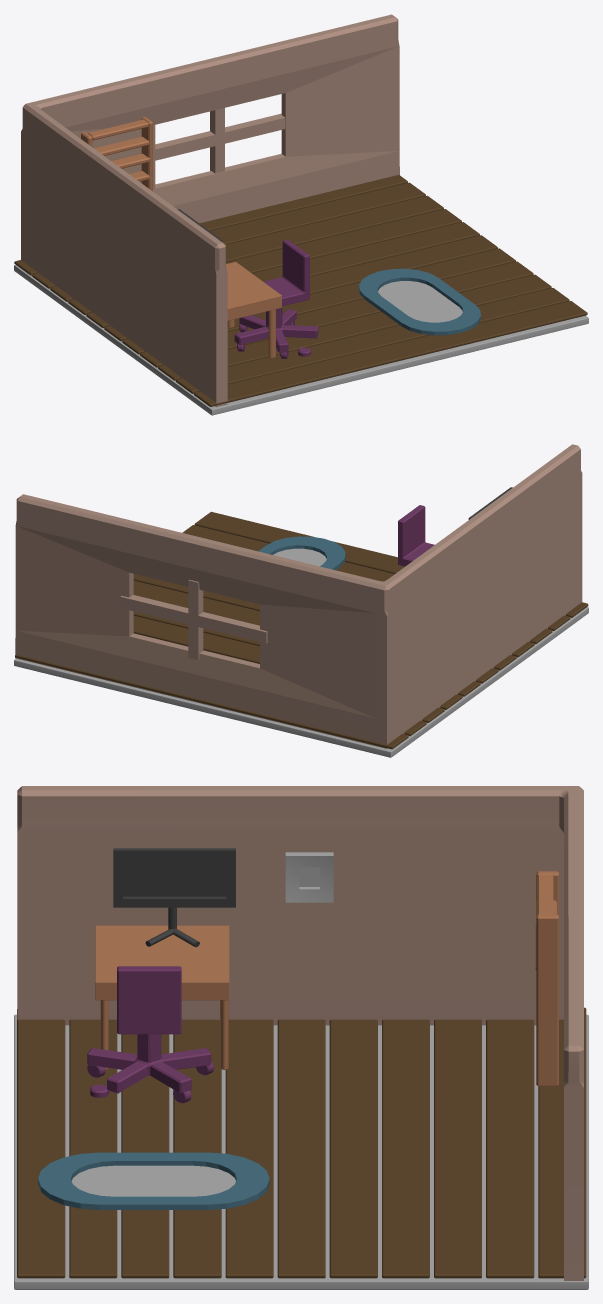
Rendered from room.fbx.
The picture shows the model from 3 angles, top to bottom: view 1: azimuth 30°, elevation 25°; view 2: azimuth 150°, elevation 25°; view 3: azimuth 270°, elevation 25°; orthographic projection. The views are drawn at different scales.
Visible parts, largest first — view 1: pCube1, pasted__pCube2, pCube14, floor, pasted__pCube3, pasted__pCube4, pasted__pCube10, Cadeira, pasted__pCube11, pasted__pCube9, pasted__pCube8, pasted__pCube7 (+6 smaller); view 2: pCube1, floor, pCube2, pasted__pCube2, pasted__pCube9, pCube14, pasted__pCube7, pasted__pCube12, pasted__pCube3, Cadeira, pasted__pCube6, pasted__pCube8; view 3: pCube1, floor, pasted__pCube7, pasted__pCube8, pasted__pCube11, pasted__pCube9, pasted__pCube10, pCube14, pasted__pCube2, pasted__pCube6, Cadeira, pCylinder5 (+7 smaller).
Boxes of the visible parts, x1=… form: pCube1: x1=21, y1=14, x2=399, y2=406; pasted__pCube2: x1=194, y1=301, x2=587, y2=406; pCube14: x1=359, y1=268, x2=480, y2=335; floor: x1=14, y1=264, x2=588, y2=415; pasted__pCube3: x1=176, y1=288, x2=569, y2=393; pasted__pCube4: x1=158, y1=274, x2=551, y2=380; pasted__pCube10: x1=50, y1=195, x2=443, y2=301; Cadeira: x1=234, y1=239, x2=318, y2=358; pasted__pCube11: x1=32, y1=182, x2=425, y2=288; pasted__pCube9: x1=68, y1=209, x2=461, y2=314; pasted__pCube8: x1=86, y1=222, x2=479, y2=327; pasted__pCube7: x1=104, y1=235, x2=497, y2=341; pCube1: x1=15, y1=444, x2=582, y2=748; floor: x1=14, y1=607, x2=588, y2=757; pCube2: x1=120, y1=579, x2=267, y2=659; pasted__pCube2: x1=194, y1=511, x2=588, y2=617; pasted__pCube9: x1=133, y1=615, x2=462, y2=709; pCube14: x1=244, y1=536, x2=345, y2=600; pasted__pCube7: x1=133, y1=580, x2=498, y2=683; pasted__pCube12: x1=15, y1=654, x2=408, y2=749; pasted__pCube3: x1=182, y1=525, x2=570, y2=630; Cadeira: x1=398, y1=505, x2=434, y2=566; pasted__pCube6: x1=133, y1=574, x2=516, y2=670; pasted__pCube8: x1=133, y1=611, x2=480, y2=696; pCube1: x1=17, y1=786, x2=583, y2=1280; floor: x1=14, y1=1014, x2=588, y2=1289; pasted__pCube7: x1=277, y1=1019, x2=325, y2=1278; pasted__pCube8: x1=329, y1=1019, x2=377, y2=1278; pasted__pCube11: x1=486, y1=1019, x2=534, y2=1278; pasted__pCube9: x1=382, y1=1019, x2=429, y2=1278; pasted__pCube10: x1=434, y1=1019, x2=481, y2=1278; pCube14: x1=38, y1=1152, x2=269, y2=1209; pasted__pCube2: x1=17, y1=1009, x2=65, y2=1278; pasted__pCube6: x1=225, y1=1019, x2=273, y2=1278; Cadeira: x1=87, y1=966, x2=213, y2=1103; pCylinder5: x1=95, y1=925, x2=229, y2=1069.
Size of the model in its own units: 13.2 by 5.67 by 11.98.
